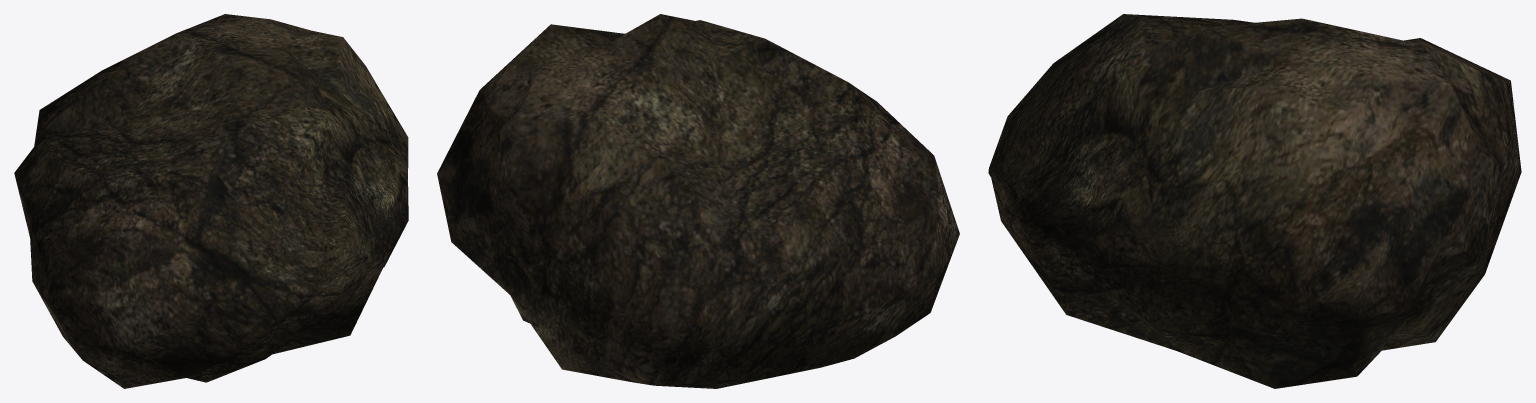
Rendered from stone_large02_brown.dae.
The picture shows the model from 3 angles, left to right: view 1: azimuth 30°, elevation 25°; view 2: azimuth 150°, elevation 25°; view 3: azimuth 270°, elevation 25°; orthographic projection. The views are drawn at different scales.
Parts seen in each view (by area): view 1: stone_large02_mesh; view 2: stone_large02_mesh; view 3: stone_large02_mesh.
Boxes of the visible parts, x1=… form: stone_large02_mesh: x1=14, y1=14, x2=408, y2=388; stone_large02_mesh: x1=437, y1=14, x2=959, y2=388; stone_large02_mesh: x1=988, y1=14, x2=1521, y2=388.
Size of the model in its own units: 1.83 by 1.25 by 1.79.
